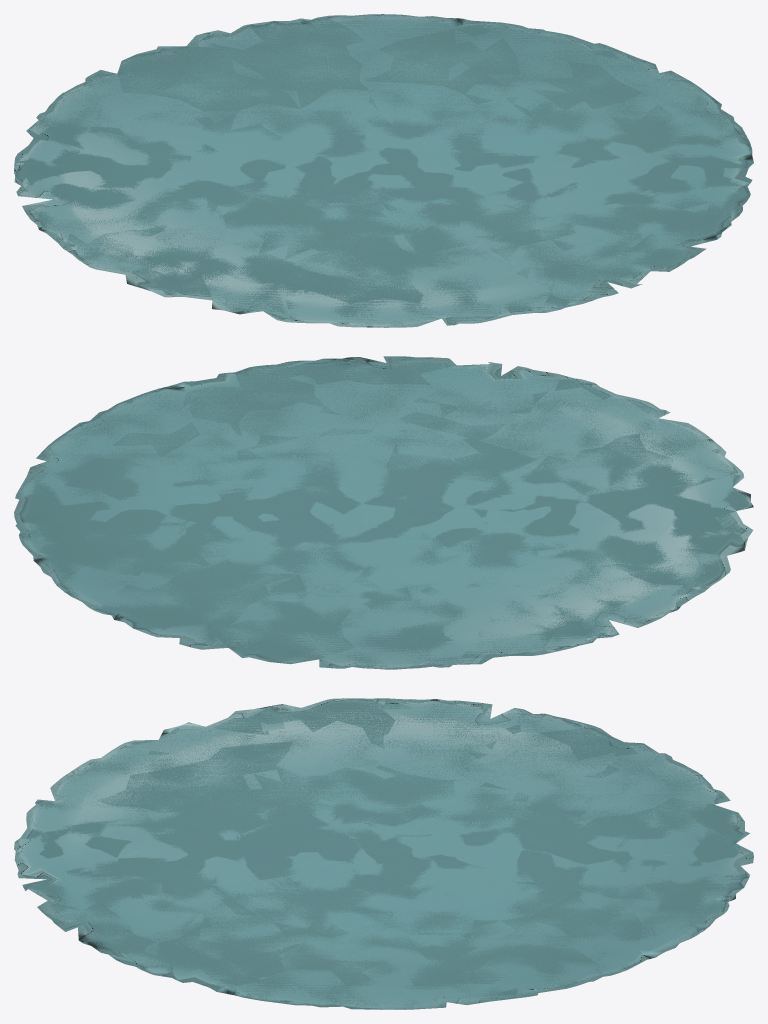
Rendered from bowl_water.glb.
3 renders of one model, top to bottom at view 1: azimuth 30°, elevation 25°; view 2: azimuth 150°, elevation 25°; view 3: azimuth 270°, elevation 25°, orthographic.
Parts seen in each view (by area): view 1: tripo_node_f9b7b303; view 2: tripo_node_f9b7b303; view 3: tripo_node_f9b7b303.
Part boxes in pixels (x1=…): tripo_node_f9b7b303: x1=14, y1=14, x2=753, y2=327; tripo_node_f9b7b303: x1=14, y1=356, x2=753, y2=669; tripo_node_f9b7b303: x1=14, y1=698, x2=753, y2=1009.
Size of the model in its own units: 0.438 by 0 by 0.4395.
Materials: 1 (1 with a texture image).
